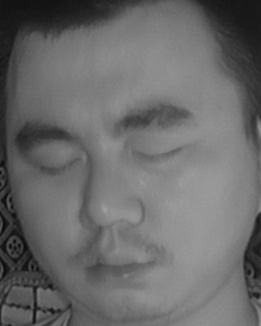blink: (31, 148, 81, 186), (132, 135, 181, 173)
mouth: (74, 236, 159, 295)
